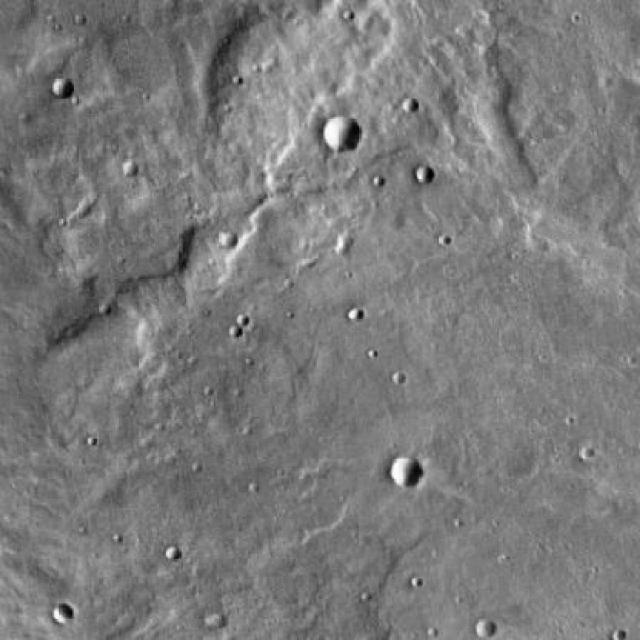crater: (320, 117, 360, 154), (392, 458, 426, 490), (52, 79, 76, 101), (203, 614, 225, 634), (56, 605, 76, 623), (416, 167, 434, 184), (218, 228, 236, 245), (344, 308, 362, 324), (478, 623, 494, 640), (402, 98, 418, 115)
